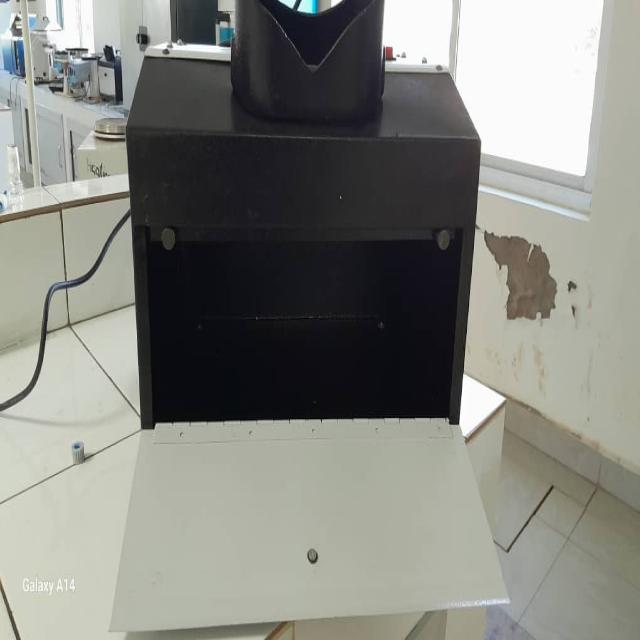U.V Cabinet: (128, 11, 504, 448)
